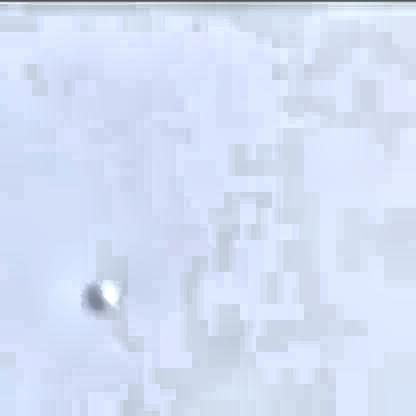golfball: (84, 274, 114, 310)
